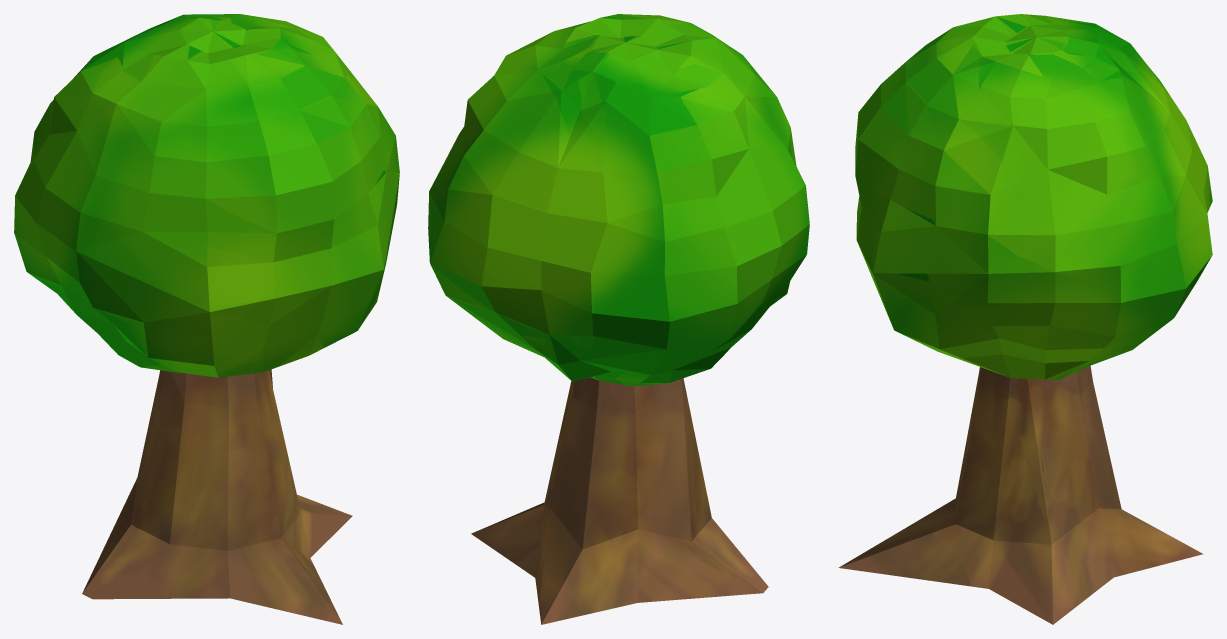
Rendered from tree_ggj.fbx.
3 views of the same model, side by side, from view 1: azimuth 30°, elevation 25°; view 2: azimuth 150°, elevation 25°; view 3: azimuth 270°, elevation 25° (orthographic).
Visible parts, largest first — view 1: Sphere, Cylinder; view 2: Sphere, Cylinder; view 3: Sphere, Cylinder.
Boxes of the visible parts, left/top/right/bottom form: Sphere: left=14, top=14, right=399, bottom=377; Cylinder: left=82, top=369, right=352, bottom=624; Sphere: left=428, top=14, right=809, bottom=385; Cylinder: left=471, top=377, right=768, bottom=624; Sphere: left=855, top=14, right=1212, bottom=379; Cylinder: left=838, top=365, right=1203, bottom=624.
Bounding box in the file's own units: 399 × 601 × 393.
2 materials, 2 textured.
